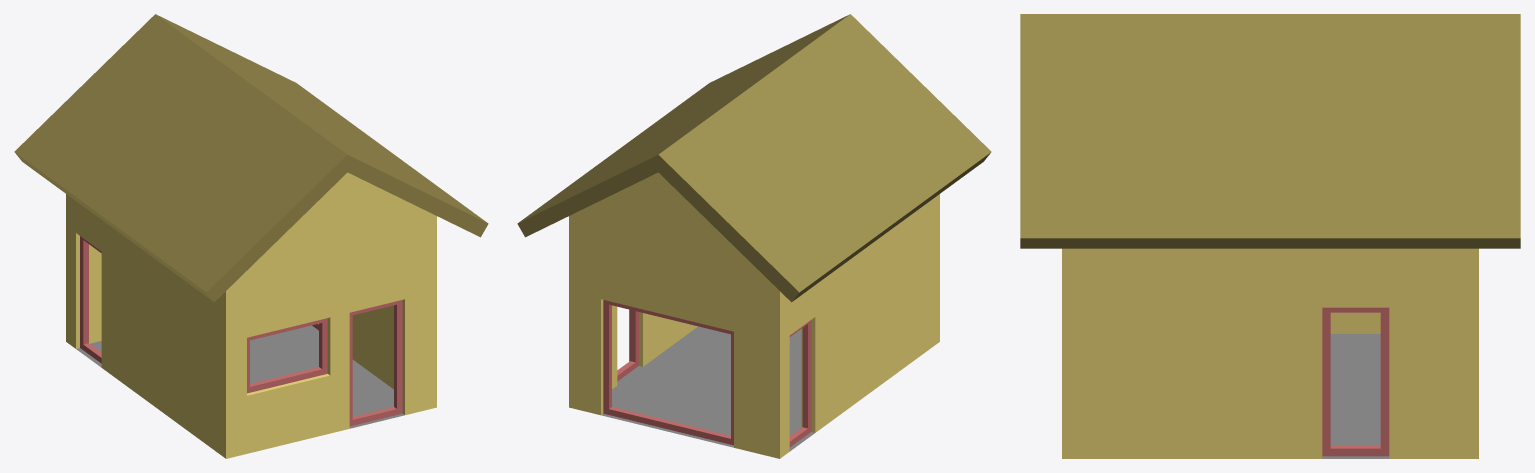
The model's file is result.glb.
The picture shows the model from 3 angles, left to right: view 1: azimuth 30°, elevation 25°; view 2: azimuth 150°, elevation 25°; view 3: azimuth 270°, elevation 25°; orthographic projection. The views are drawn at different scales.
Parts seen in each view (by area): view 1: 32818810-bb4d-4564-a60e-7dcadfd35e14__undefined, 1f420f37-25ac-4b9a-9bb0-c21b2a42cbf4__undefined (×2), 07790b14-2ca1-4c4c-8c6d-893a53873c2b__Plane_6, 8bd0f6ab-bde1-4b88-811b-3955d86f5ee4__Box, ab5f7b8a-fc0b-4a2f-940f-f5675c7cd021__Box_3, f0abc5c7-cb01-460d-8085-b220d6db78e0__Box_12; view 2: 1f420f37-25ac-4b9a-9bb0-c21b2a42cbf4__undefined (×2), 32818810-bb4d-4564-a60e-7dcadfd35e14__undefined, 07790b14-2ca1-4c4c-8c6d-893a53873c2b__Plane_6, 6f8d7f2f-113b-45ce-bd9d-004f3d8f91f2__Box_9, f0abc5c7-cb01-460d-8085-b220d6db78e0__Box_12, 7da82eca-5768-4b5c-b14a-a0367060b95c__Box_15; view 3: 1f420f37-25ac-4b9a-9bb0-c21b2a42cbf4__undefined, 32818810-bb4d-4564-a60e-7dcadfd35e14__undefined, 07790b14-2ca1-4c4c-8c6d-893a53873c2b__Plane_6, 7da82eca-5768-4b5c-b14a-a0367060b95c__Box_15.
Part boxes in pixels (x1,y1,x2,y2): 32818810-bb4d-4564-a60e-7dcadfd35e14__undefined: [66, 172, 436, 458]; 1f420f37-25ac-4b9a-9bb0-c21b2a42cbf4__undefined (×2): [14, 14, 488, 302]; 07790b14-2ca1-4c4c-8c6d-893a53873c2b__Plane_6: [76, 325, 404, 428]; 8bd0f6ab-bde1-4b88-811b-3955d86f5ee4__Box: [349, 300, 402, 426]; ab5f7b8a-fc0b-4a2f-940f-f5675c7cd021__Box_3: [247, 318, 327, 393]; f0abc5c7-cb01-460d-8085-b220d6db78e0__Box_12: [80, 236, 101, 363]; 1f420f37-25ac-4b9a-9bb0-c21b2a42cbf4__undefined (×2): [517, 14, 991, 302]; 32818810-bb4d-4564-a60e-7dcadfd35e14__undefined: [569, 172, 939, 458]; 07790b14-2ca1-4c4c-8c6d-893a53873c2b__Plane_6: [601, 326, 814, 451]; 6f8d7f2f-113b-45ce-bd9d-004f3d8f91f2__Box_9: [603, 300, 733, 445]; f0abc5c7-cb01-460d-8085-b220d6db78e0__Box_12: [789, 320, 811, 447]; 7da82eca-5768-4b5c-b14a-a0367060b95c__Box_15: [617, 310, 638, 381]; 1f420f37-25ac-4b9a-9bb0-c21b2a42cbf4__undefined: [1020, 14, 1520, 248]; 32818810-bb4d-4564-a60e-7dcadfd35e14__undefined: [1062, 248, 1478, 458]; 07790b14-2ca1-4c4c-8c6d-893a53873c2b__Plane_6: [1322, 334, 1389, 458]; 7da82eca-5768-4b5c-b14a-a0367060b95c__Box_15: [1322, 307, 1389, 456].
Bounding box in the file's own units: 509 × 500 × 600.
